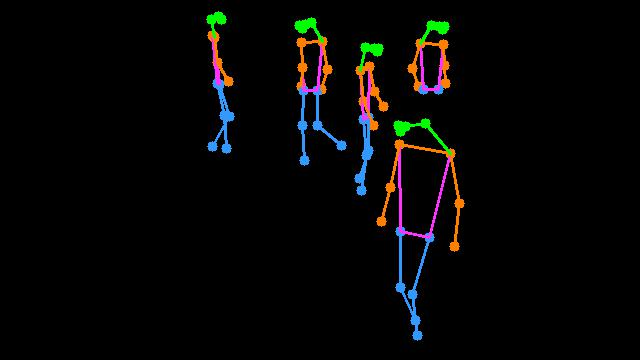normal: (372, 94, 464, 357), (284, 10, 348, 170), (199, 4, 248, 159), (346, 30, 389, 205)
